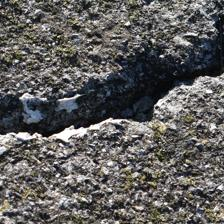Crack: (7, 41, 222, 144)
